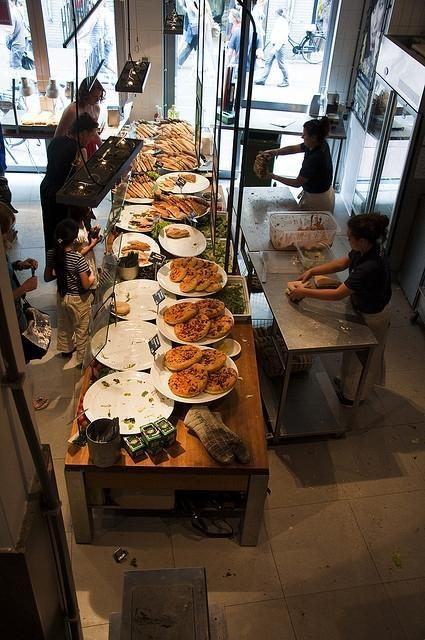bicycle: (287, 28, 327, 68)
